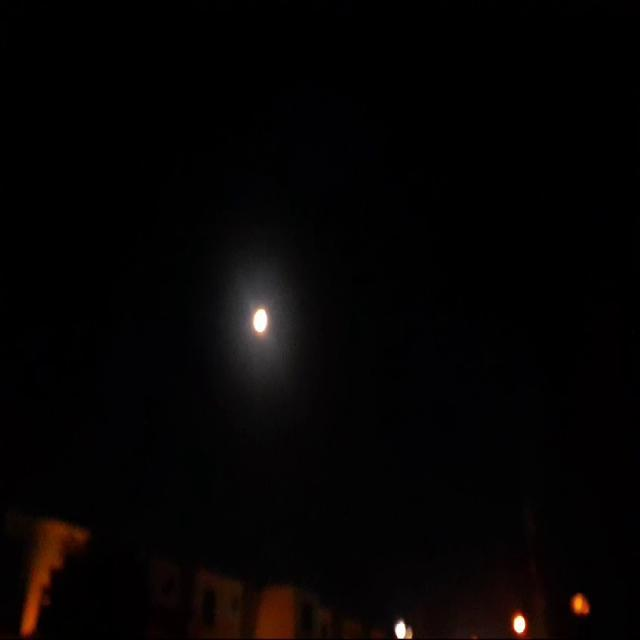moon: (247, 303, 269, 342)
